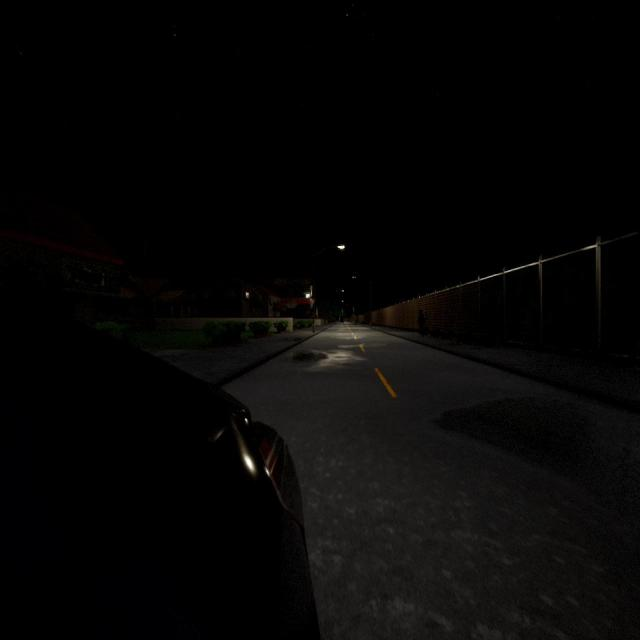Pedestrian: (418, 309, 427, 336)
Vehicle: (0, 291, 319, 637)
